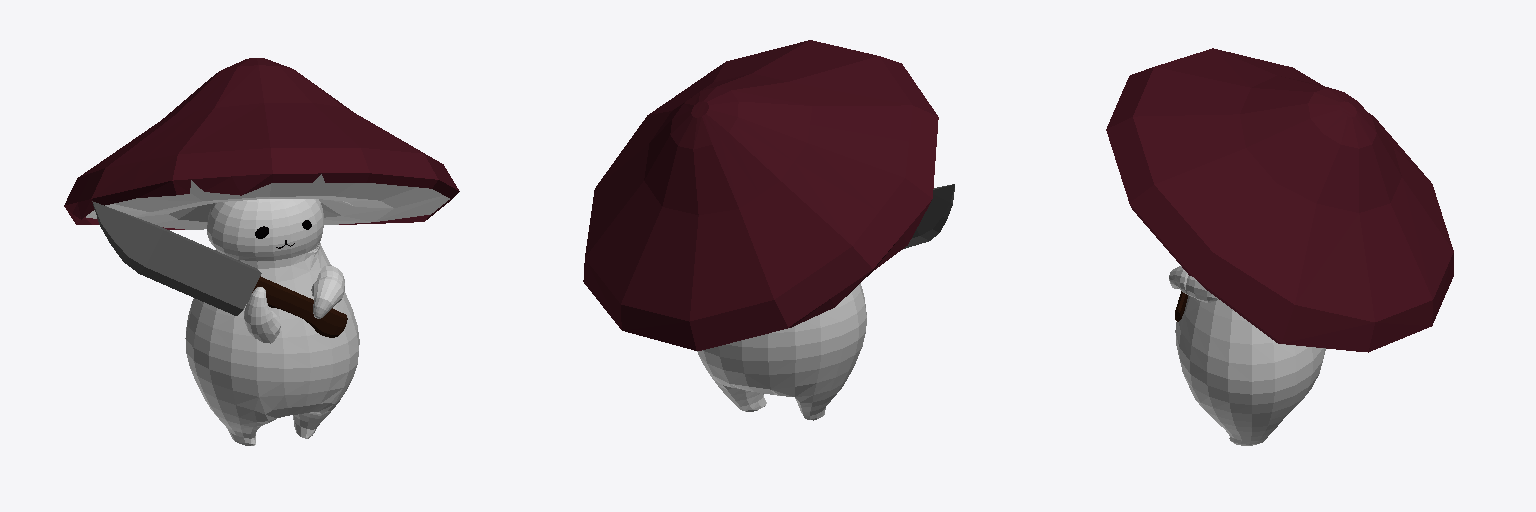
File: mushroom_boy.obj
The picture shows the model from 3 angles: view 1: azimuth 30°, elevation 25°; view 2: azimuth 150°, elevation 25°; view 3: azimuth 270°, elevation 25°; orthographic projection.
Visible parts, largest first — view 1: Cylinder.001_Cap_0, Cylinder.004_Body_0, Cylinder.002_Cap_cream_0, Cube.002_Metal_0, Cube.002_Wood_0; view 2: Cylinder.001_Cap_0, Cylinder.004_Body_0, Cube.002_Metal_0; view 3: Cylinder.001_Cap_0, Cylinder.004_Body_0.
Boxes of the visible parts, x1=… form: Cylinder.001_Cap_0: x1=64, y1=58, x2=459, y2=229; Cylinder.004_Body_0: x1=185, y1=199, x2=359, y2=445; Cylinder.002_Cap_cream_0: x1=86, y1=174, x2=449, y2=229; Cube.002_Metal_0: x1=92, y1=201, x2=261, y2=315; Cube.002_Wood_0: x1=252, y1=276, x2=347, y2=337; Cylinder.001_Cap_0: x1=583, y1=40, x2=938, y2=350; Cylinder.004_Body_0: x1=697, y1=283, x2=866, y2=420; Cube.002_Metal_0: x1=902, y1=184, x2=954, y2=249; Cylinder.001_Cap_0: x1=1106, y1=48, x2=1453, y2=352; Cylinder.004_Body_0: x1=1169, y1=266, x2=1325, y2=445.
Bounding box in the file's own units: 6.96 × 6.57 × 5.97.